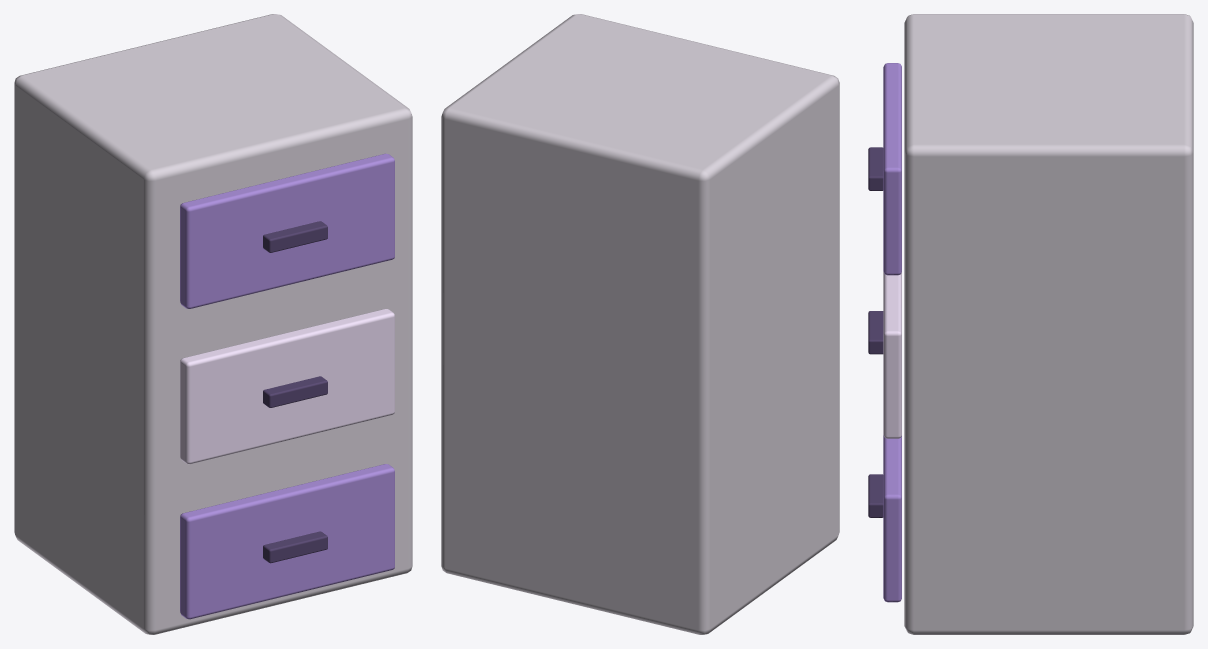
Rendered from office-filing-cabinet.glb.
3 views of the same model, side by side, from view 1: azimuth 30°, elevation 25°; view 2: azimuth 150°, elevation 25°; view 3: azimuth 270°, elevation 25° (orthographic). The views are drawn at different scales.
Parts seen in each view (by area): view 1: filing-body, filing-drawer-0, filing-drawer-2, filing-drawer-1, filing-handle-2, filing-handle-0, filing-handle-1; view 2: filing-body; view 3: filing-body, filing-drawer-0, filing-drawer-2, filing-drawer-1, filing-handle-0, filing-handle-2, filing-handle-1.
Boxes of the visible parts, left/top/right/bottom form: filing-body: left=14, top=14, right=412, bottom=634; filing-drawer-0: left=180, top=153, right=394, bottom=308; filing-drawer-2: left=180, top=464, right=394, bottom=619; filing-drawer-1: left=180, top=309, right=394, bottom=464; filing-handle-2: left=263, top=531, right=327, bottom=563; filing-handle-0: left=263, top=221, right=327, bottom=252; filing-handle-1: left=263, top=376, right=327, bottom=407; filing-body: left=441, top=14, right=839, bottom=634; filing-body: left=904, top=14, right=1193, bottom=634; filing-drawer-0: left=883, top=63, right=901, bottom=275; filing-drawer-2: left=883, top=435, right=901, bottom=602; filing-drawer-1: left=883, top=271, right=901, bottom=438; filing-handle-0: left=868, top=147, right=883, bottom=190; filing-handle-2: left=868, top=474, right=883, bottom=517; filing-handle-1: left=868, top=311, right=883, bottom=354.
Size of the model in its own units: 0.7 by 1.16 by 0.6975.
